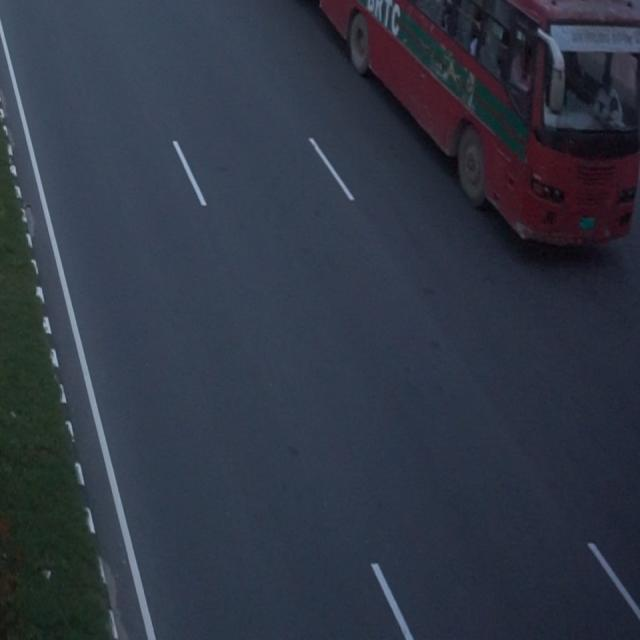bus: (214, 0, 640, 280)
